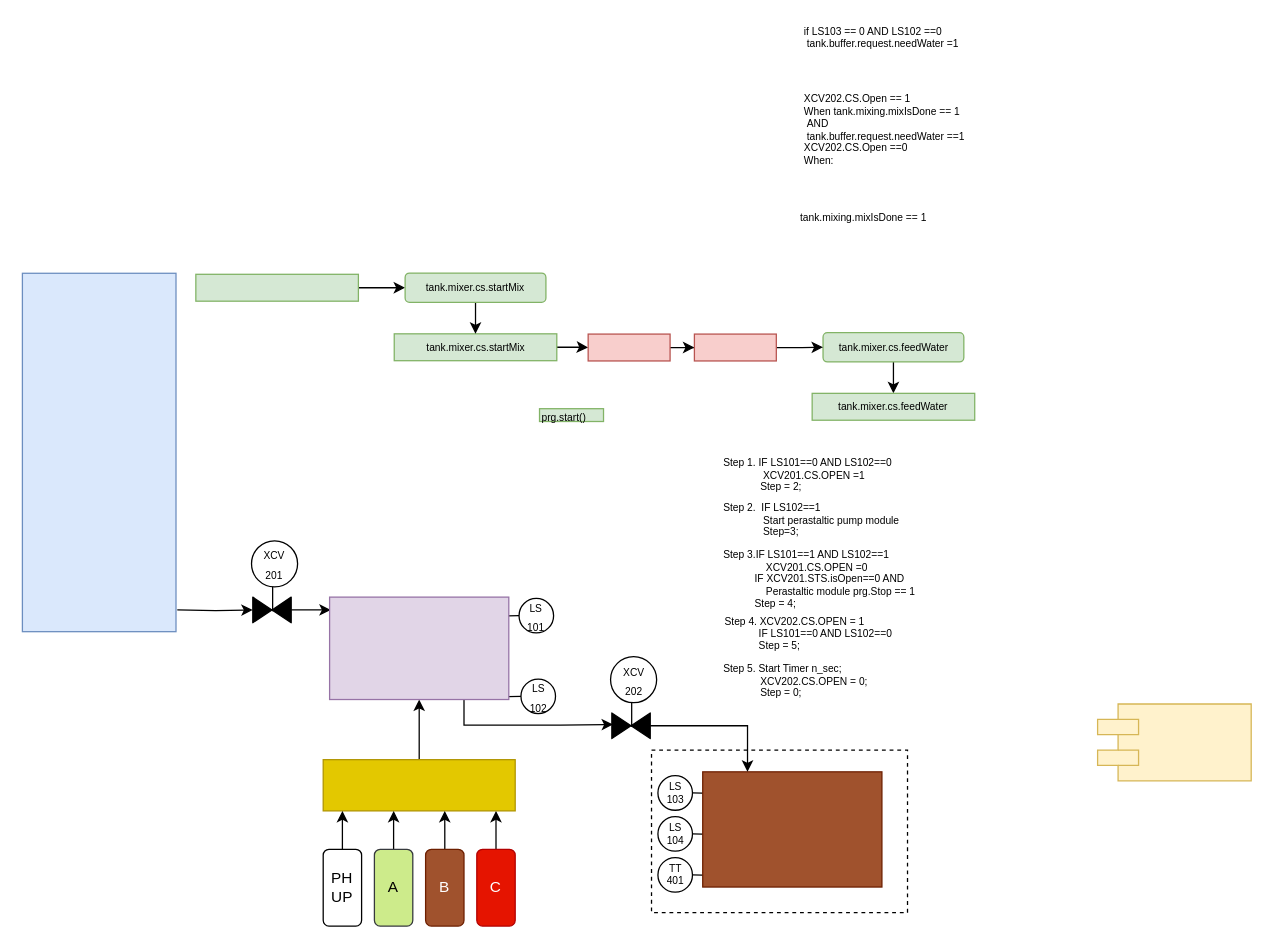
Image size: 1274x948. Some labels were removed from this diagram. The centre of each missing label's shape, as x and y in pixels:
"Buffer tank" goes at point 791,829.
"LS101" goes at point 734,347.
"LS102" goes at point 628,347.
"mixing tank 10L" goes at point 418,648.
"Module" goes at point 1173,742.
"Perastaltic pumps module" goes at point 418,784.
"tank.buffer.requestNeedWater" goes at point 276,287.
"Water Tank 120L" goes at point 98,452.
